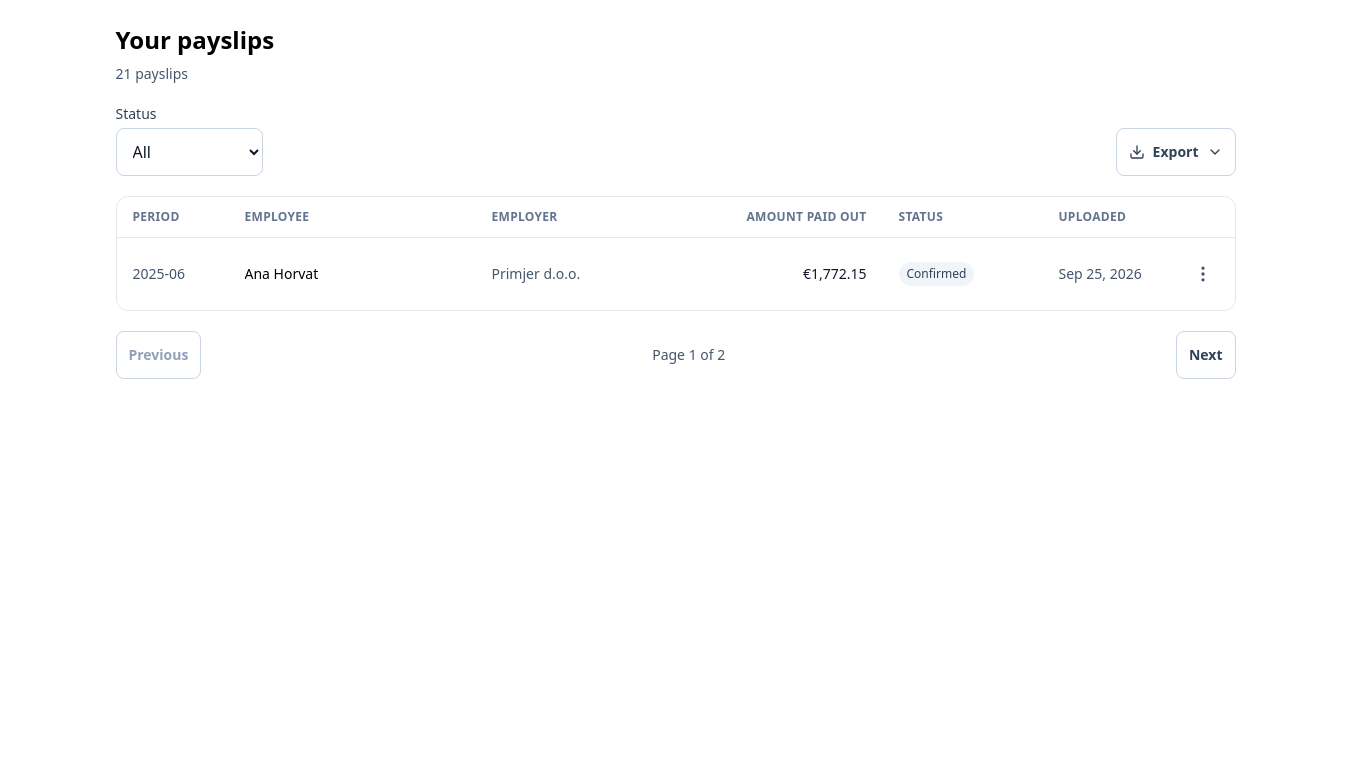
Test case: HistoryPage › steps back from a page a delete has emptied
Click the button "Next".
click(1206, 355)  # box [1176, 331, 1236, 379]
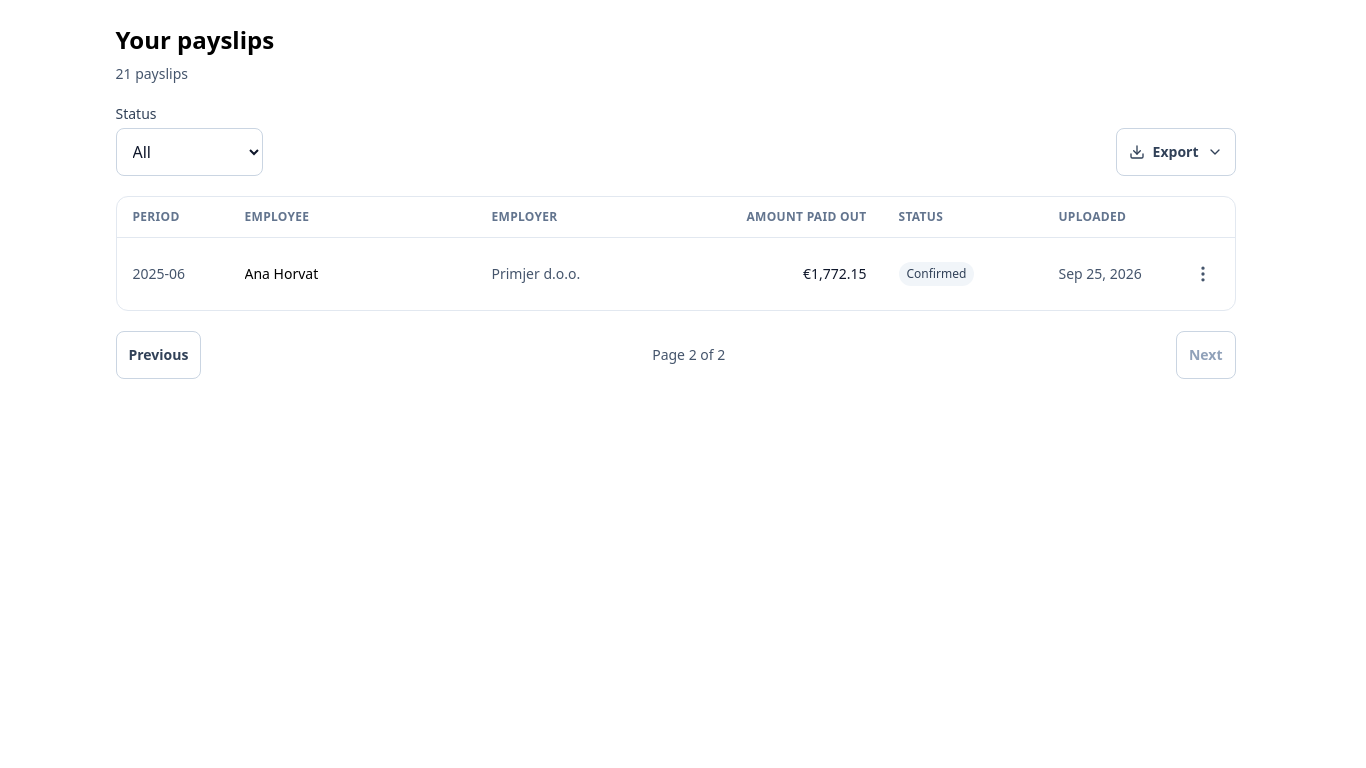
Click the button named "Actions for Ana Horvat".
click(1202, 274)  # box [1178, 250, 1226, 298]
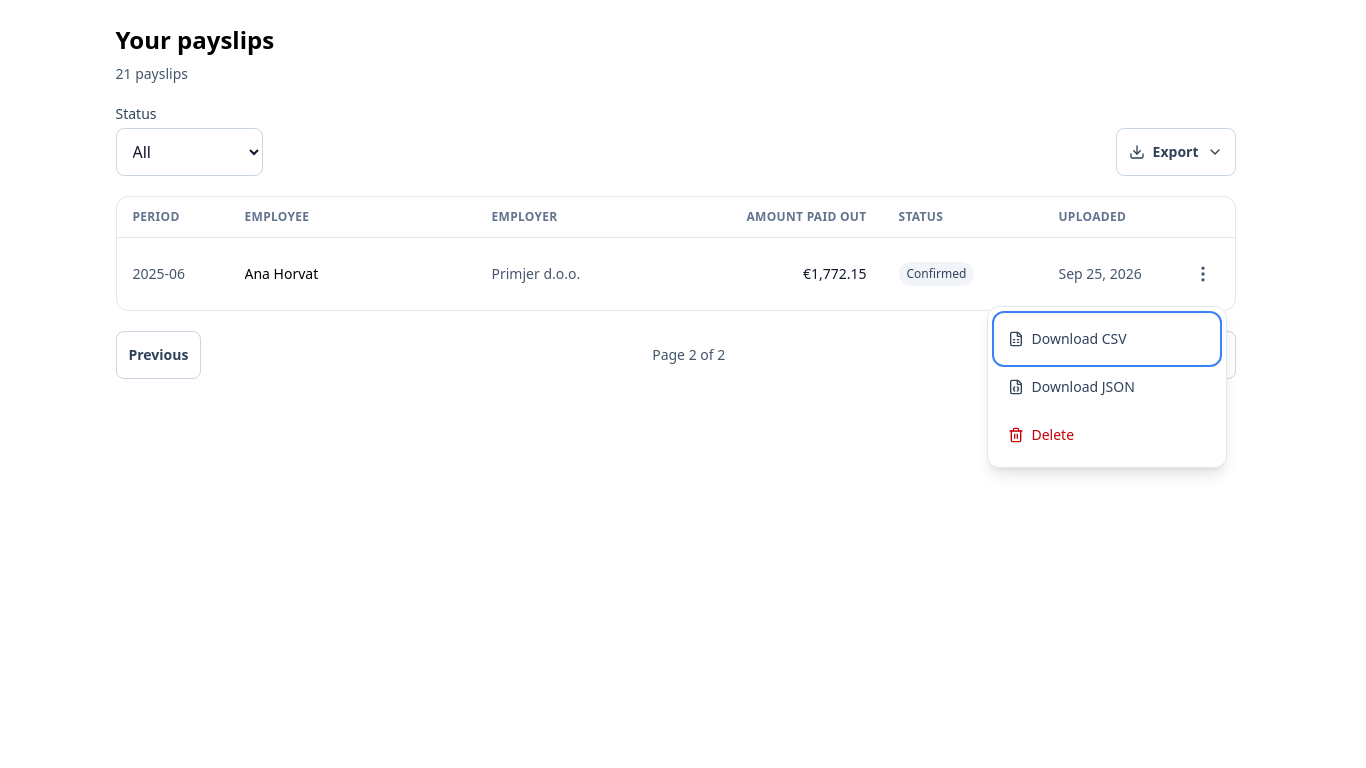
Click the button "Delete".
click(1106, 435)  # box [996, 411, 1218, 459]
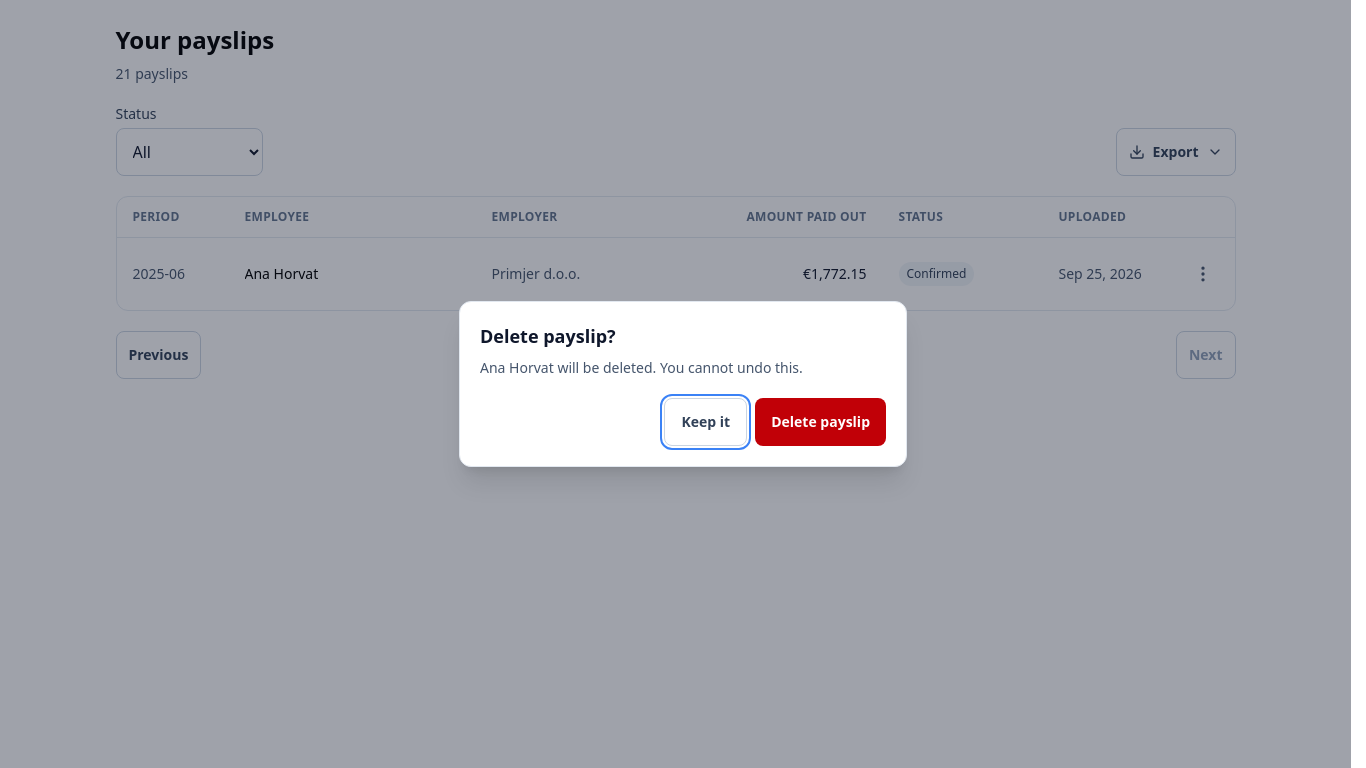
Click the button "Delete payslip".
click(821, 422)  # box [755, 398, 886, 446]
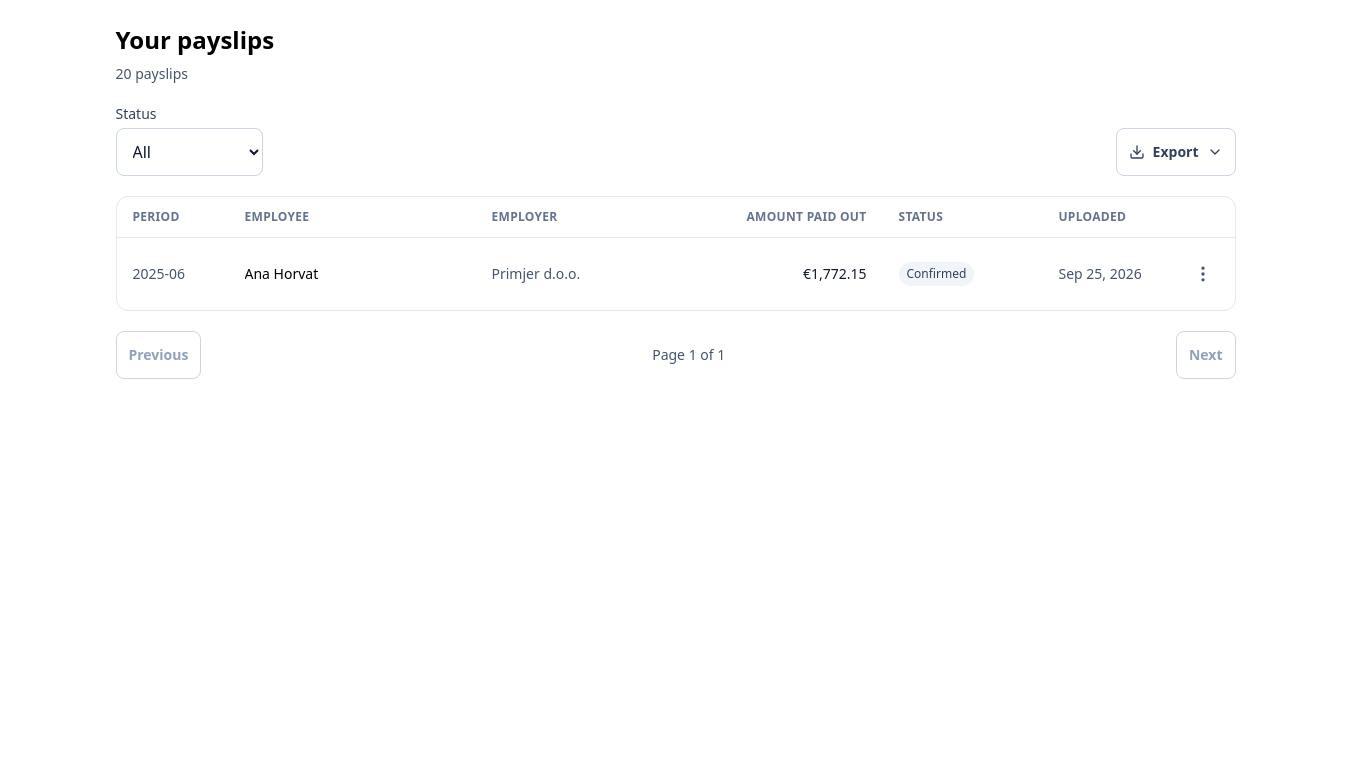
Result: the text "Page 1 of 1" is shown at [652, 345, 725, 365]
